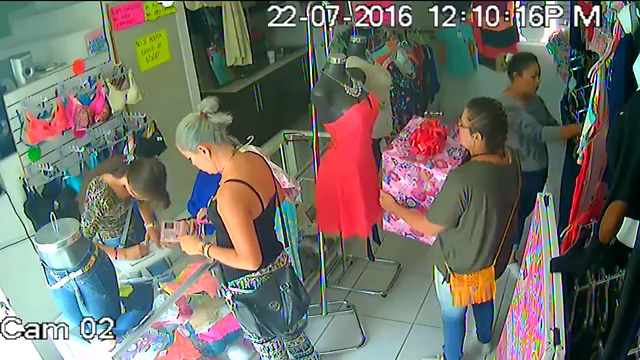face: (453, 111, 479, 148), (518, 61, 543, 93)
